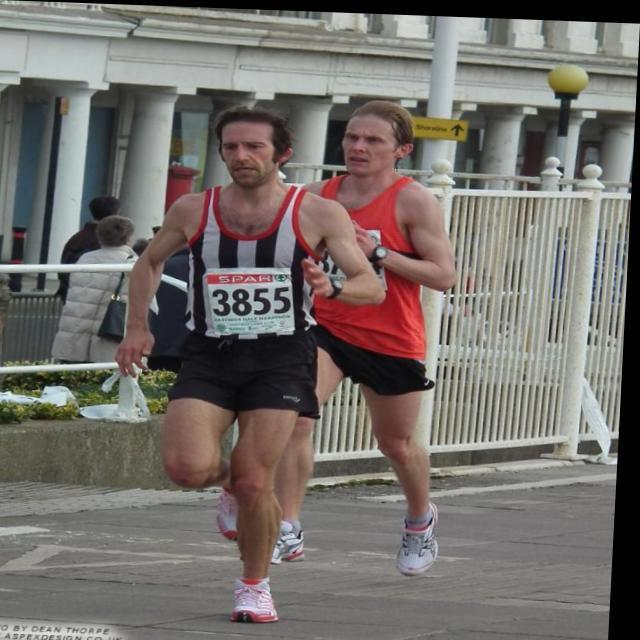dorsal: (187, 259, 318, 344)
